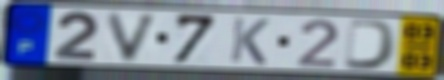2: (52, 10, 103, 63), (294, 18, 340, 69)
7: (169, 13, 220, 65)
D: (341, 18, 400, 71)
K: (227, 15, 273, 67)
V: (104, 11, 164, 64)
